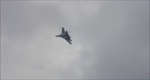maybay_muctieu: (54, 26, 74, 46)
